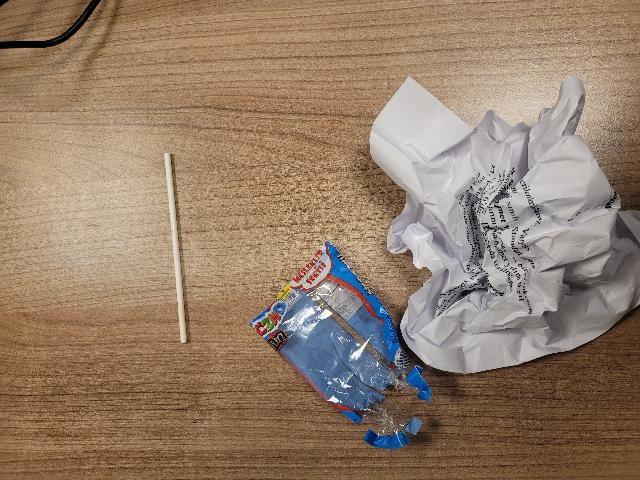Kagit: (350, 77, 640, 373)
Plastik: (240, 250, 431, 452), (152, 145, 204, 355)
